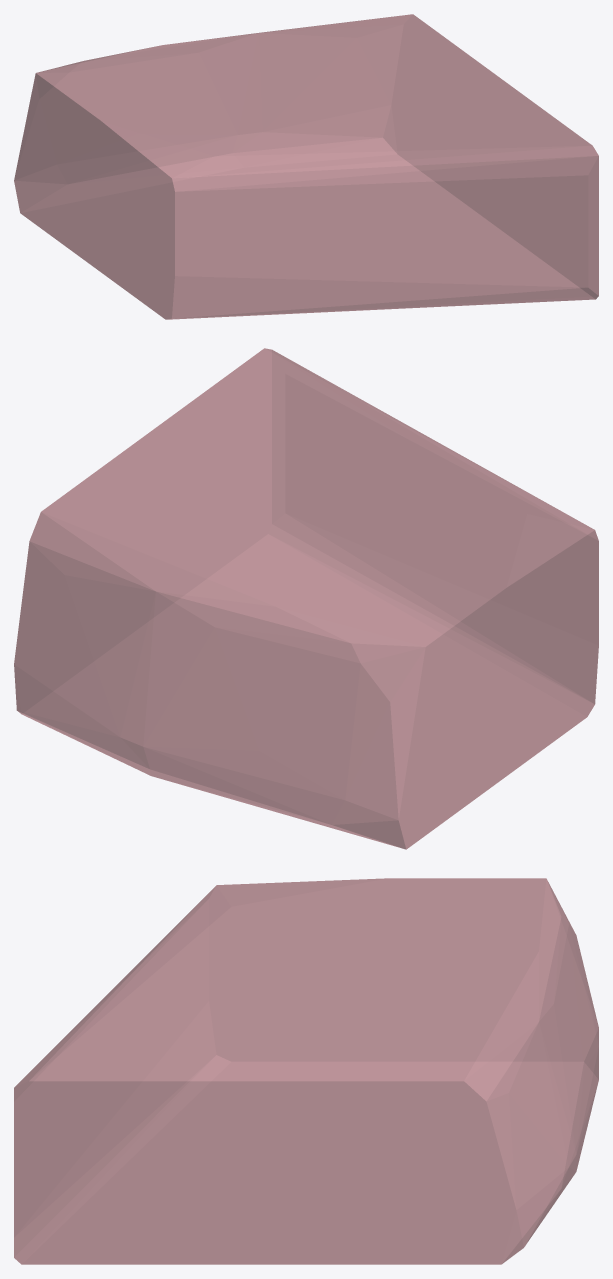
3 renders of one model, top to bottom at view 1: azimuth 30°, elevation 25°; view 2: azimuth 150°, elevation 25°; view 3: azimuth 270°, elevation 25°, orthographic. The views are drawn at different scales.
Visible parts, largest first — view 1: Shape_IndexedFaceSet.004_Shape_IndexedFaceSet.1226; view 2: Shape_IndexedFaceSet.004_Shape_IndexedFaceSet.1226; view 3: Shape_IndexedFaceSet.004_Shape_IndexedFaceSet.1226.
Part boxes in pixels (x1,y1,x2,y2): Shape_IndexedFaceSet.004_Shape_IndexedFaceSet.1226: [14, 14, 598, 319]; Shape_IndexedFaceSet.004_Shape_IndexedFaceSet.1226: [14, 348, 598, 849]; Shape_IndexedFaceSet.004_Shape_IndexedFaceSet.1226: [14, 878, 598, 1264].
Bounding box in the file's own units: 0.1275 × 0.0538 × 0.1554.
